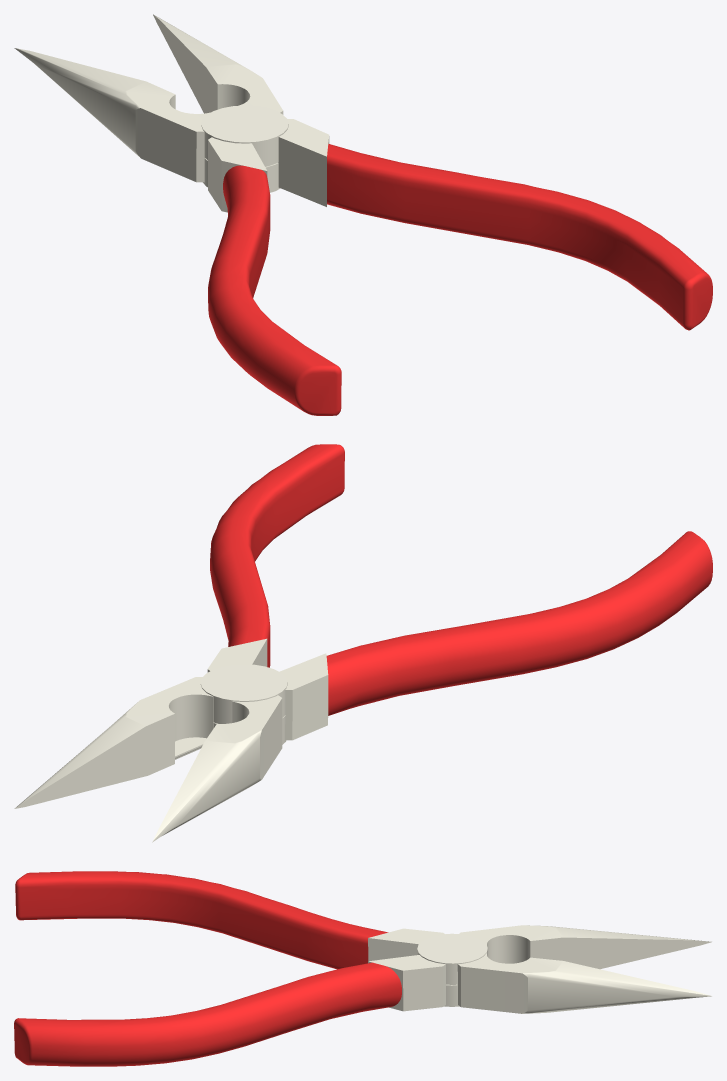
File: long_nose_plier.fbx
The picture shows the model from 3 angles, top to bottom: view 1: azimuth 30°, elevation 25°; view 2: azimuth 150°, elevation 25°; view 3: azimuth 270°, elevation 25°; orthographic projection. The views are drawn at different scales.
Visible parts, largest first — view 1: long_nose_plier_R, long_nose_plier_L; view 2: long_nose_plier_L, long_nose_plier_R; view 3: long_nose_plier_R, long_nose_plier_L.
Boxes of the visible parts, x1,y1,x2,y2 form: long_nose_plier_R: (14, 48, 712, 330); long_nose_plier_L: (153, 14, 341, 415); long_nose_plier_L: (14, 531, 712, 808); long_nose_plier_R: (152, 444, 344, 842); long_nose_plier_R: (14, 925, 711, 1066); long_nose_plier_L: (15, 871, 711, 1013).
Bounding box in the file's own units: 6.95 × 0.8442 × 12.31.
